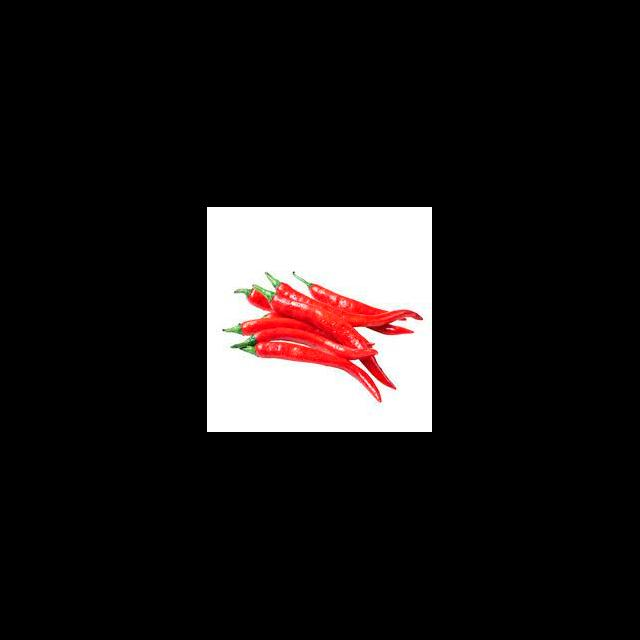chili_pepper: (256, 342, 383, 400), (276, 284, 422, 328), (270, 294, 369, 350), (240, 314, 358, 350), (305, 284, 389, 313)
